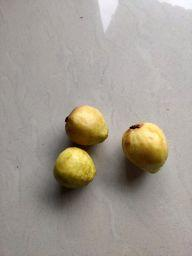guava: (121, 119, 172, 178), (63, 102, 111, 148), (50, 144, 98, 188)
